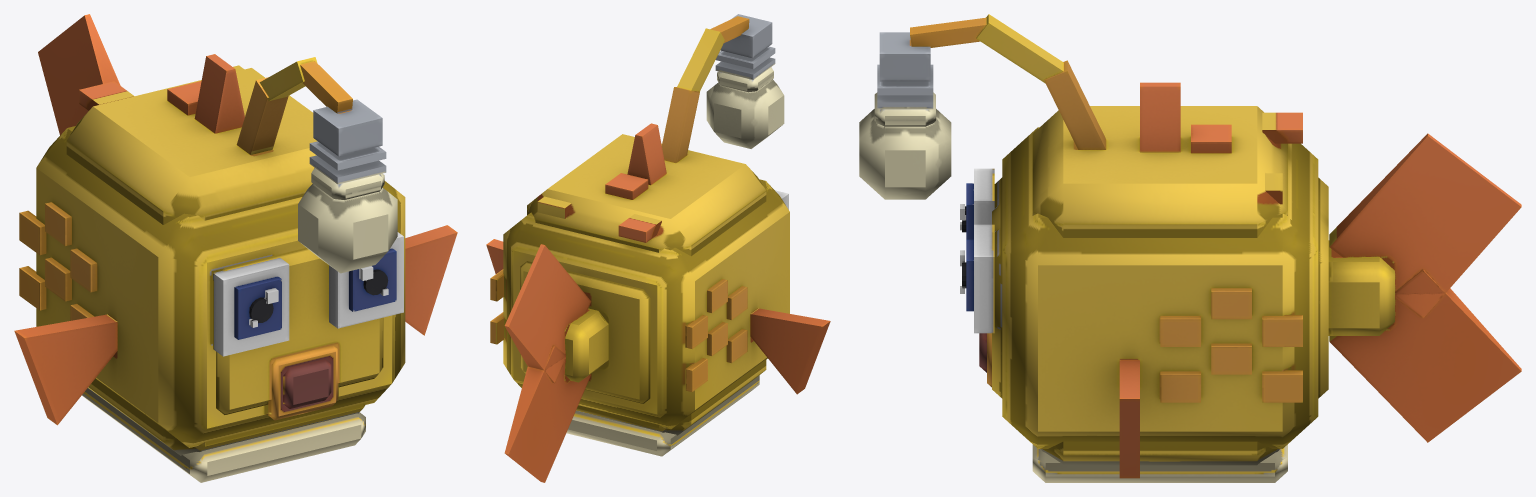
The model's file is PoissonAmpoule_Rig.fbx.
3 renders of one model, left to right at view 1: azimuth 30°, elevation 25°; view 2: azimuth 150°, elevation 25°; view 3: azimuth 270°, elevation 25°, orthographic. The views are drawn at different scales.
Visible parts, largest first — view 1: Body, Lure, FinR, Tail, FinL; view 2: Body, Tail, Lure, FinR, FinL; view 3: Body, Tail, Lure, FinL.
Boxes of the visible parts, x1,y1,x2,y2 form: Body: [19, 54, 405, 482]; Lure: [236, 57, 397, 273]; FinR: [14, 314, 117, 425]; Tail: [38, 14, 120, 135]; FinL: [405, 225, 457, 335]; Body: [490, 123, 789, 456]; Tail: [504, 244, 608, 482]; Lure: [662, 14, 784, 163]; FinR: [750, 308, 830, 394]; FinL: [486, 239, 503, 273]; Body: [960, 82, 1328, 482]; Tail: [1328, 133, 1521, 442]; Lure: [859, 14, 1106, 199]; FinL: [1119, 360, 1139, 478].
Size of the model in its own units: 6.39 by 6 by 8.44.
1 material, 1 textured.
